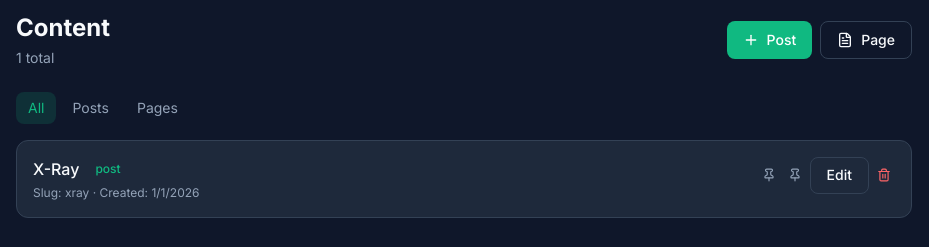
Test: Content settings page › filtering › shows empty state when filter has no results
Expected: the text "X-Ray" is shown, x1=33 y1=157 x2=79 y2=181
Click the button "Pages": (157,108) x1=125 y1=92 x2=190 y2=124
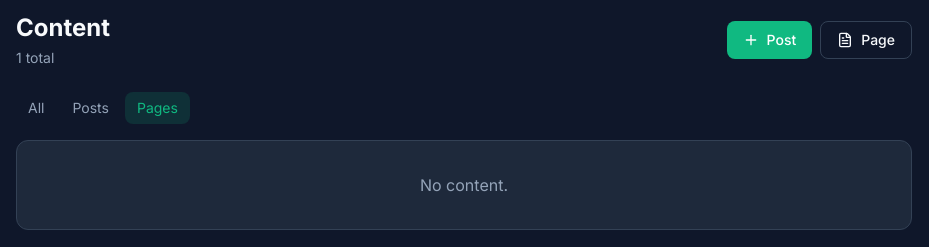
Now the text "No content." is shown, box x1=420 y1=175 x2=508 y2=195
